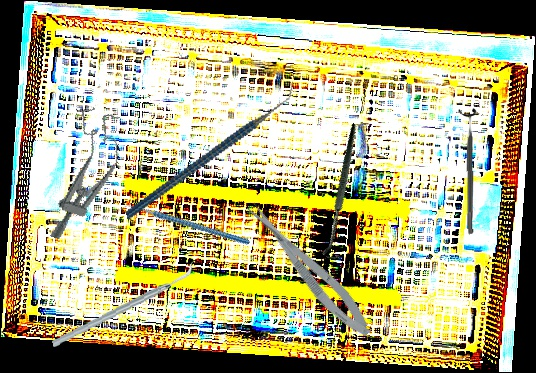Chopper: (102, 79, 318, 221), (116, 166, 251, 285), (47, 262, 199, 348)
Fixation Ring: (458, 108, 480, 235)
Hook Surgical: (276, 123, 413, 265)
Micro Scissor: (241, 193, 379, 345)
Speculum: (39, 103, 133, 250)
